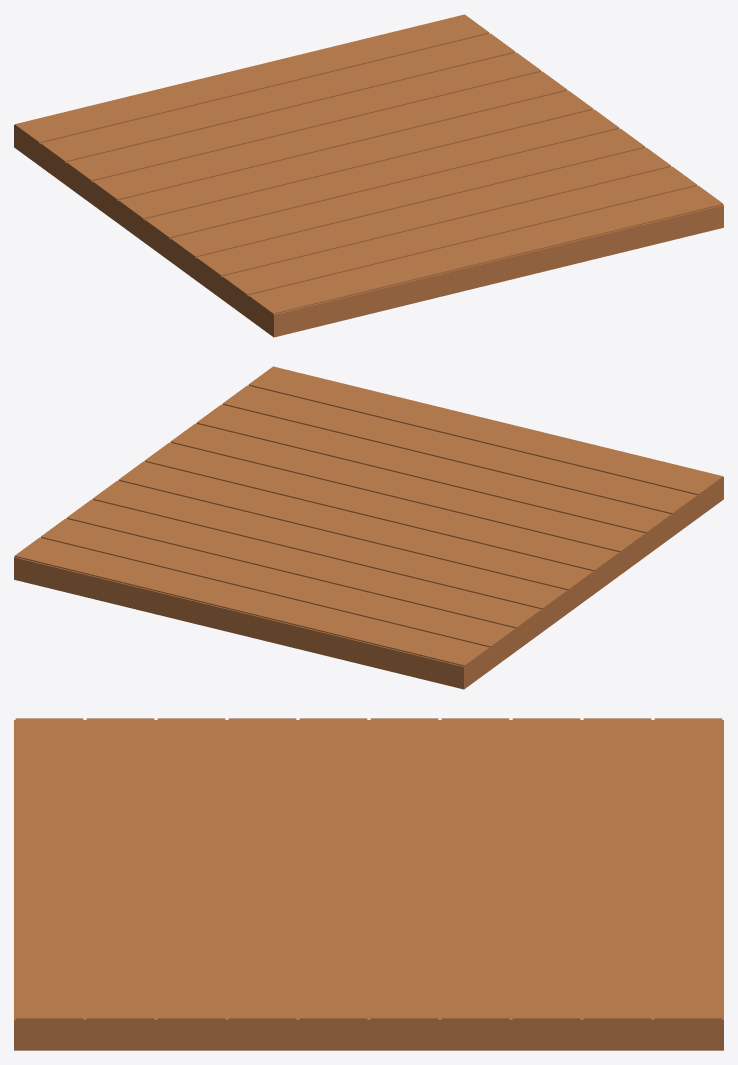
The model's file is WoodFloor.glb.
3 views of the same model, one above another, from view 1: azimuth 30°, elevation 25°; view 2: azimuth 150°, elevation 25°; view 3: azimuth 270°, elevation 25° (orthographic). The views are drawn at different scales.
Visible parts, largest first — view 1: Wood Floor.001; view 2: Wood Floor.001; view 3: Wood Floor.001.
Boxes of the visible parts, bbox=[...] form: Wood Floor.001: bbox=[14, 14, 723, 337]; Wood Floor.001: bbox=[14, 366, 723, 689]; Wood Floor.001: bbox=[14, 718, 723, 1050].
Size of the model in its own units: 100 by 5 by 100.
